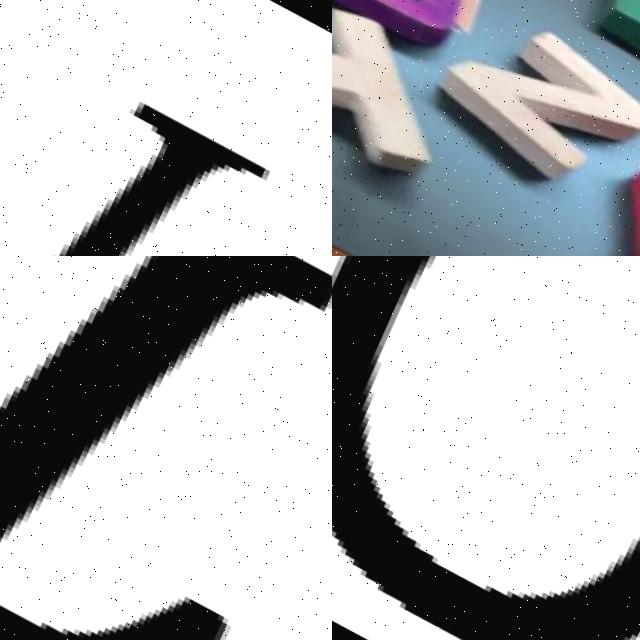C: (332, 256, 640, 640)
H: (58, 96, 269, 256), (332, 0, 461, 204)
L: (0, 256, 332, 640)
S: (332, 0, 485, 56)
Z: (426, 0, 640, 215)
